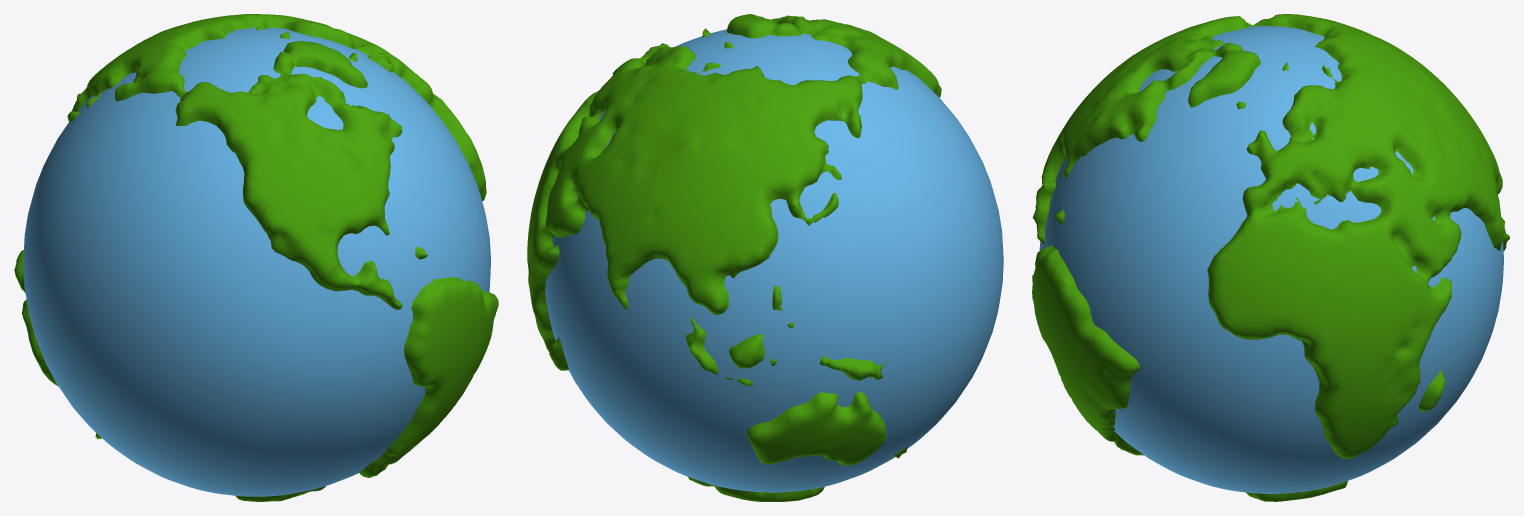
Rendered from globe-sync-2.fbx.
3 views of the same model, side by side, from view 1: azimuth 30°, elevation 25°; view 2: azimuth 150°, elevation 25°; view 3: azimuth 270°, elevation 25° (orthographic).
Visible parts, largest first — view 1: Globbe, Earth.001; view 2: Globbe, Earth.001; view 3: Earth.001, Globbe.
Boxes of the visible parts, x1,y1,x2,y2 form: Globbe: (23,27,490,496); Earth.001: (14,14,498,501); Globbe: (545,29,1003,492); Earth.001: (527,14,941,501); Earth.001: (1032,14,1509,501); Globbe: (1039,25,1503,493).
Size of the model in its own units: 1080 by 1108 by 1086.
